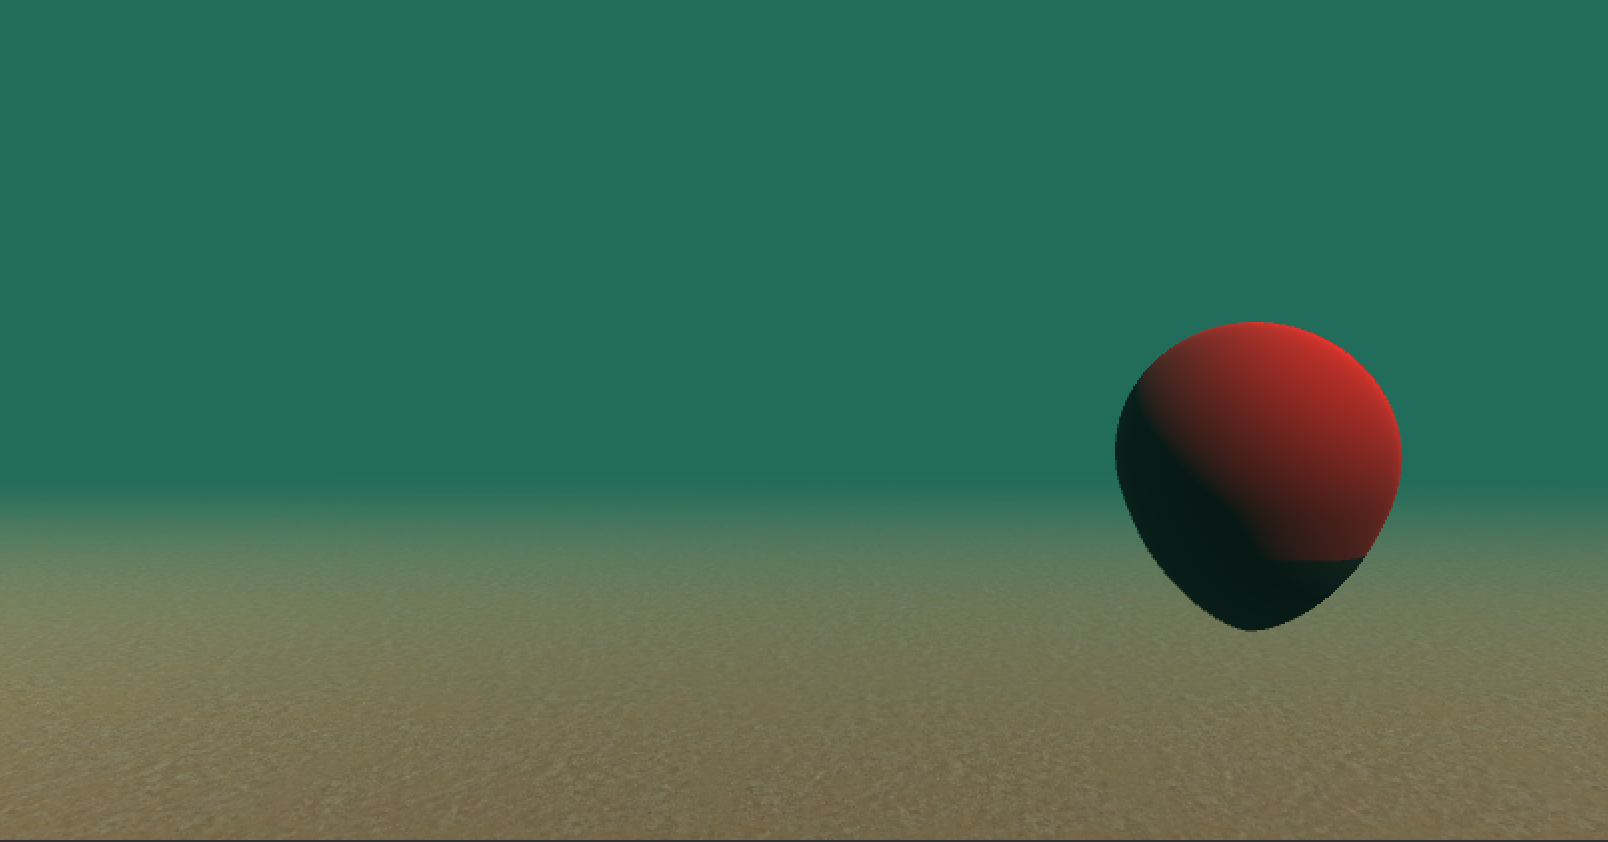red buoy: (1108, 317, 1410, 641)
